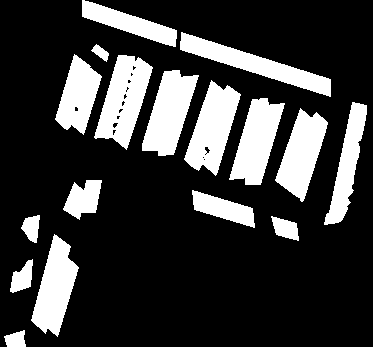parkingspot: (180, 32, 330, 96), (324, 102, 366, 224), (82, 0, 176, 46), (184, 80, 227, 170), (31, 234, 70, 333), (112, 57, 152, 149), (287, 112, 327, 201), (202, 85, 240, 175), (94, 55, 134, 138), (158, 75, 198, 155), (275, 108, 314, 190), (245, 103, 284, 184), (229, 98, 268, 179), (142, 70, 180, 150), (44, 256, 78, 336), (55, 54, 90, 129), (67, 66, 101, 134), (192, 190, 254, 227), (63, 182, 85, 219), (10, 259, 32, 292), (80, 180, 101, 212), (271, 216, 298, 240), (21, 215, 39, 242), (4, 330, 25, 347), (91, 44, 108, 61)
